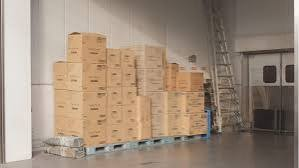box: (56, 114, 106, 149), (67, 32, 104, 64), (64, 63, 106, 89), (53, 92, 101, 114), (133, 68, 165, 93), (134, 46, 160, 69), (185, 115, 207, 136), (139, 96, 150, 136), (182, 91, 204, 110), (176, 72, 200, 89), (152, 111, 168, 135), (152, 91, 168, 112), (170, 112, 183, 135), (167, 65, 178, 92), (107, 124, 123, 142), (124, 104, 139, 123), (104, 87, 120, 104), (169, 91, 181, 113), (122, 88, 135, 107), (122, 68, 135, 86), (107, 48, 119, 67), (111, 67, 123, 85), (107, 107, 120, 123), (122, 51, 134, 68), (123, 121, 134, 139)
